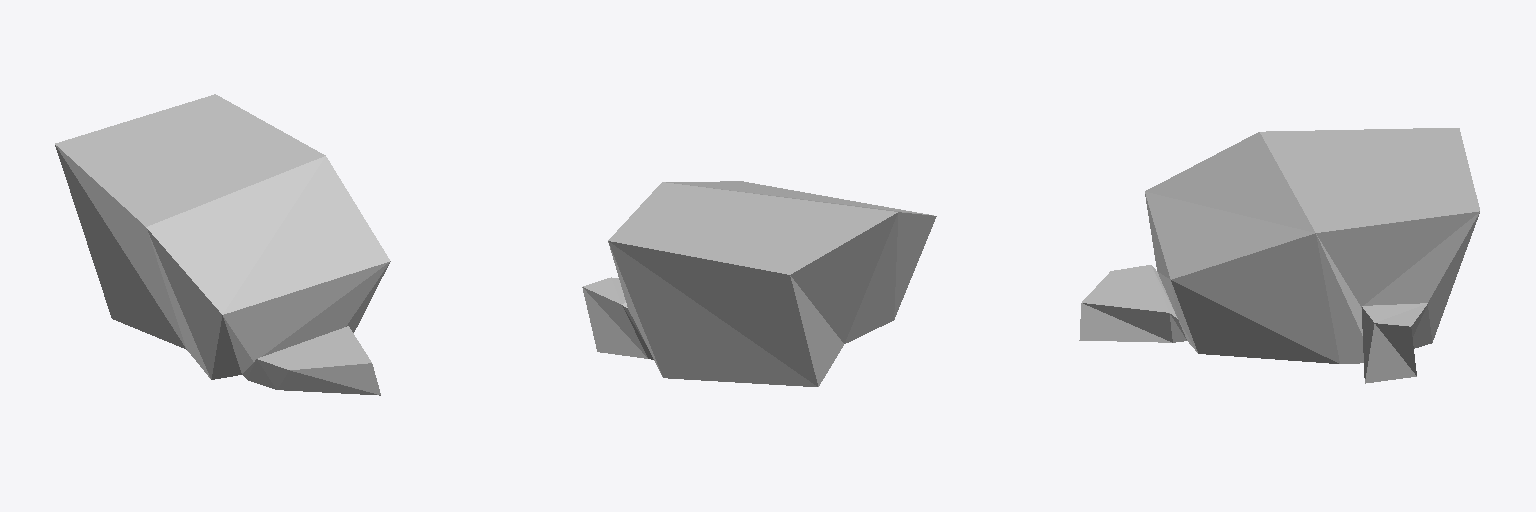
The model's file is rock_01.obj.
The picture shows the model from 3 angles: view 1: azimuth 30°, elevation 25°; view 2: azimuth 150°, elevation 25°; view 3: azimuth 270°, elevation 25°; orthographic projection.
Visible parts, largest first — view 1: Cube; view 2: Cube; view 3: Cube.
Part boxes in pixels (x1,y1,x2,y2): Cube: (55, 94, 390, 395); Cube: (582, 181, 936, 386); Cube: (1079, 128, 1479, 383).
Bounding box in the file's own units: 2.42 × 1.42 × 3.49.